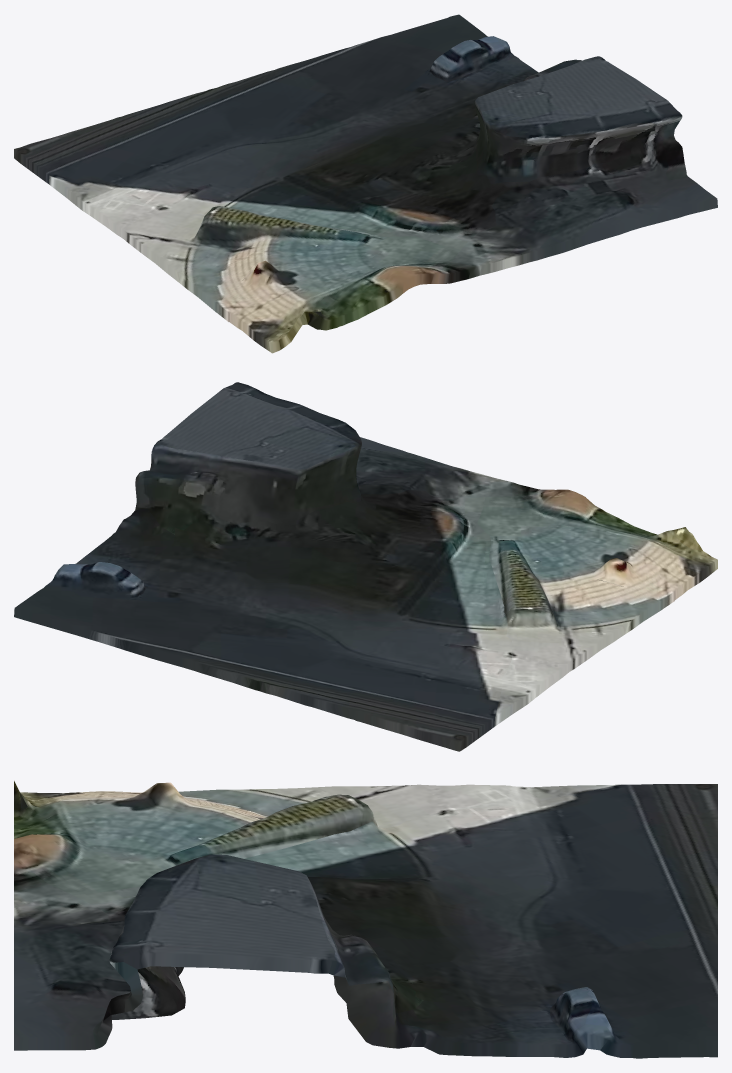
Rendered from z20-167748-405249-h0-yup-uvflip-v3-world.glb.
The picture shows the model from 3 angles, top to bottom: view 1: azimuth 30°, elevation 25°; view 2: azimuth 150°, elevation 25°; view 3: azimuth 270°, elevation 25°; orthographic projection. The views are drawn at different scales.
Size of the model in its own units: 30.2 by 7.04 by 30.32.
Materials: 1 (1 with a texture image).
